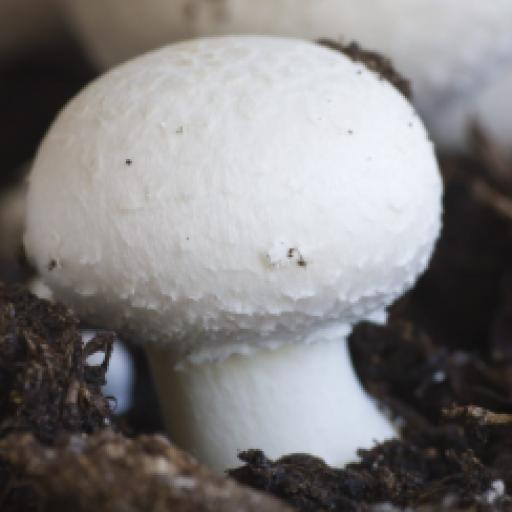Button Mushroom: (21, 33, 450, 469)
